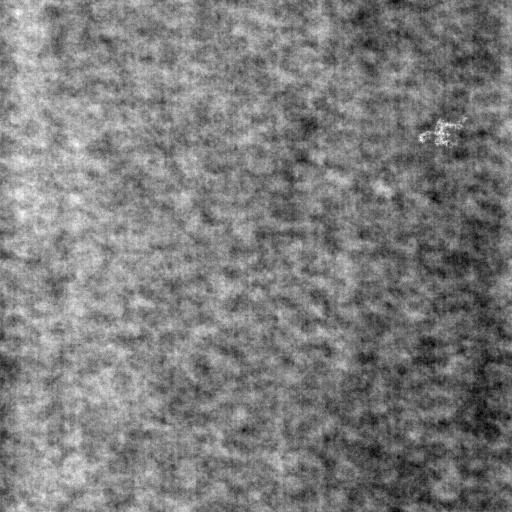DefectTypeA: (417, 113, 468, 148)
